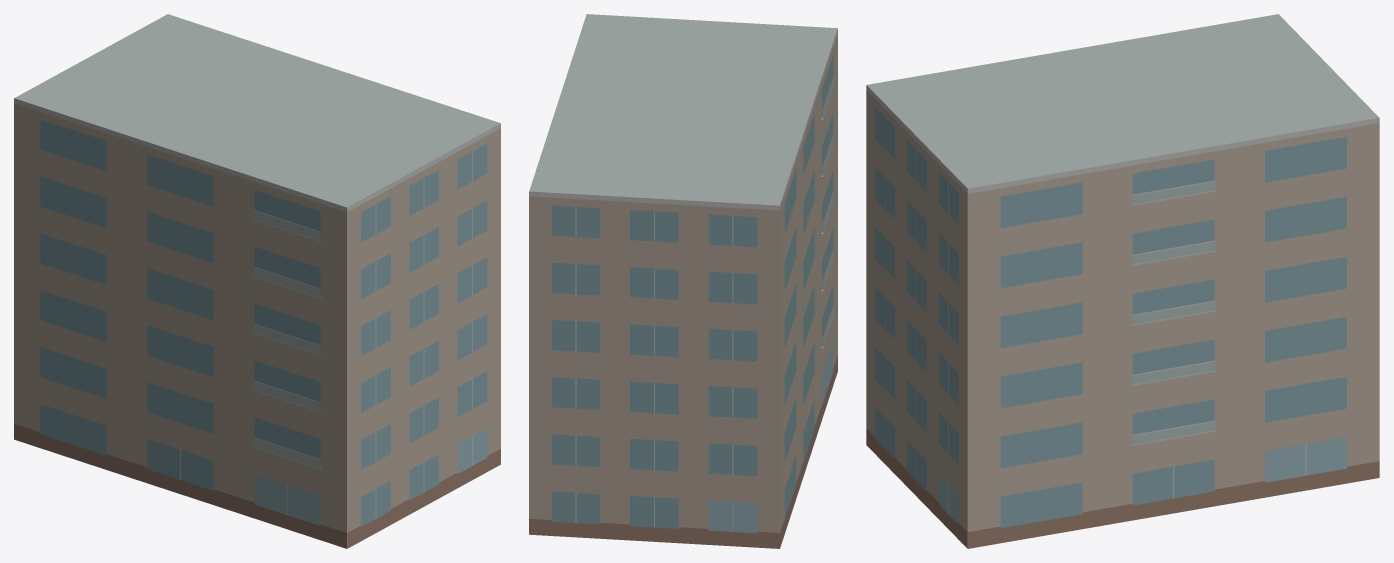
The model's file is survey-upis-32910397.glb.
3 renders of one model, left to right at view 1: azimuth 30°, elevation 25°; view 2: azimuth 150°, elevation 25°; view 3: azimuth 270°, elevation 25°, orthographic. The views are drawn at different scales.
Visible parts, largest first — view 1: survey-upis-32910397.tmp; view 2: survey-upis-32910397.tmp; view 3: survey-upis-32910397.tmp.
Part boxes in pixels (box(x1,y1,x2,y2)): survey-upis-32910397.tmp: box(14, 14, 500, 548); survey-upis-32910397.tmp: box(529, 14, 837, 548); survey-upis-32910397.tmp: box(866, 14, 1379, 548).
Bounding box in the file's own units: 17.81 × 17.1 × 22.09.
